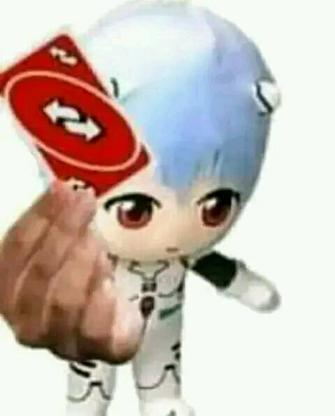rei-plush: (43, 0, 294, 414)
